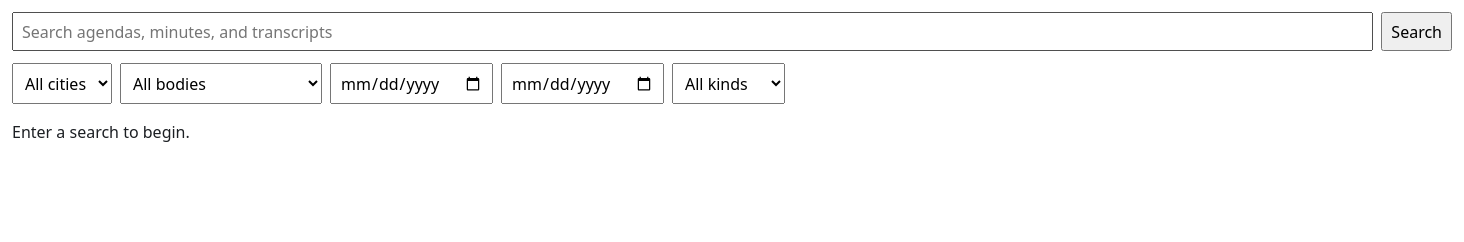
Test: submits the query with filters and renders hits
The width and height of the screenshot is (1464, 242).
Type "sidewalk repair" into the field with test id "search-input" at (693, 32), box left=12, top=12, right=1373, bottom=51
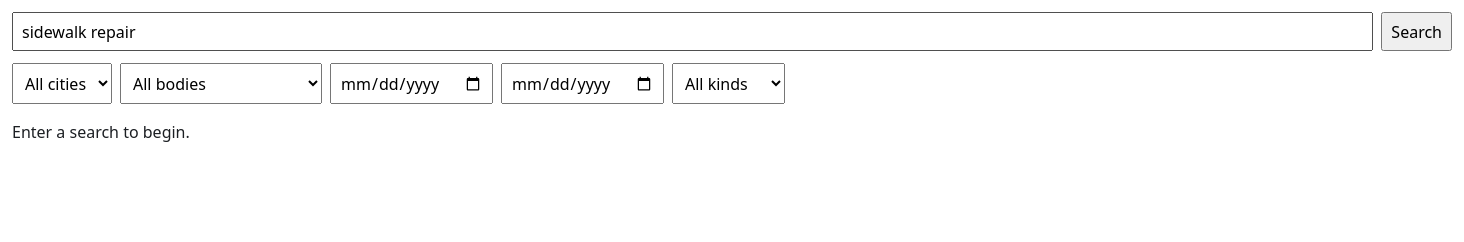
Select "Birch" in the dropdown with test id "filter-city" at (62, 84), box left=12, top=63, right=112, bottom=104
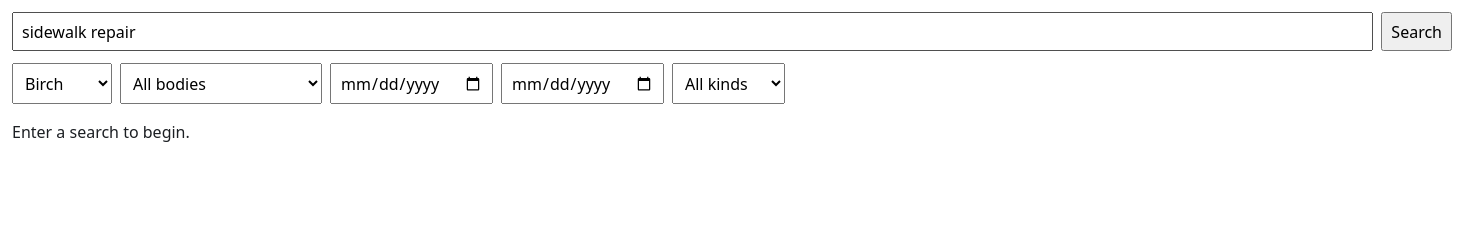
Click the button with test id "search-submit" at (1417, 32), box left=1381, top=12, right=1452, bottom=51
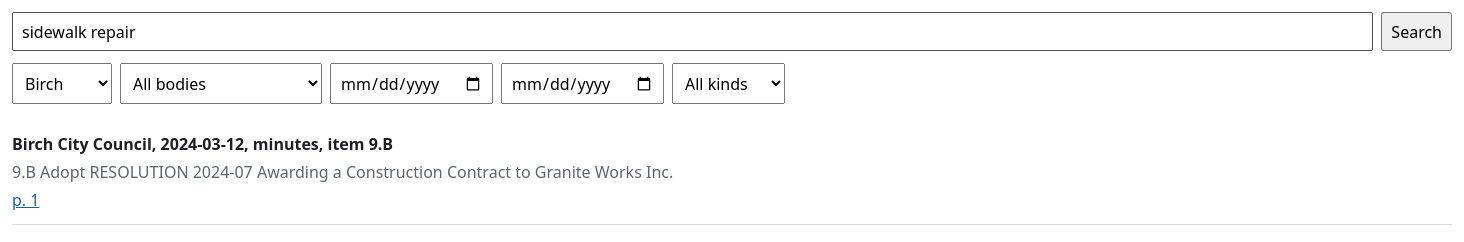
Now the list item with test id "result-1" shows "Birch City Council, 2024-03-12, minutes, item 9.B", box left=12, top=133, right=393, bottom=155
Now the link with test id "result-span" reads "p. 1", box left=12, top=189, right=40, bottom=211
